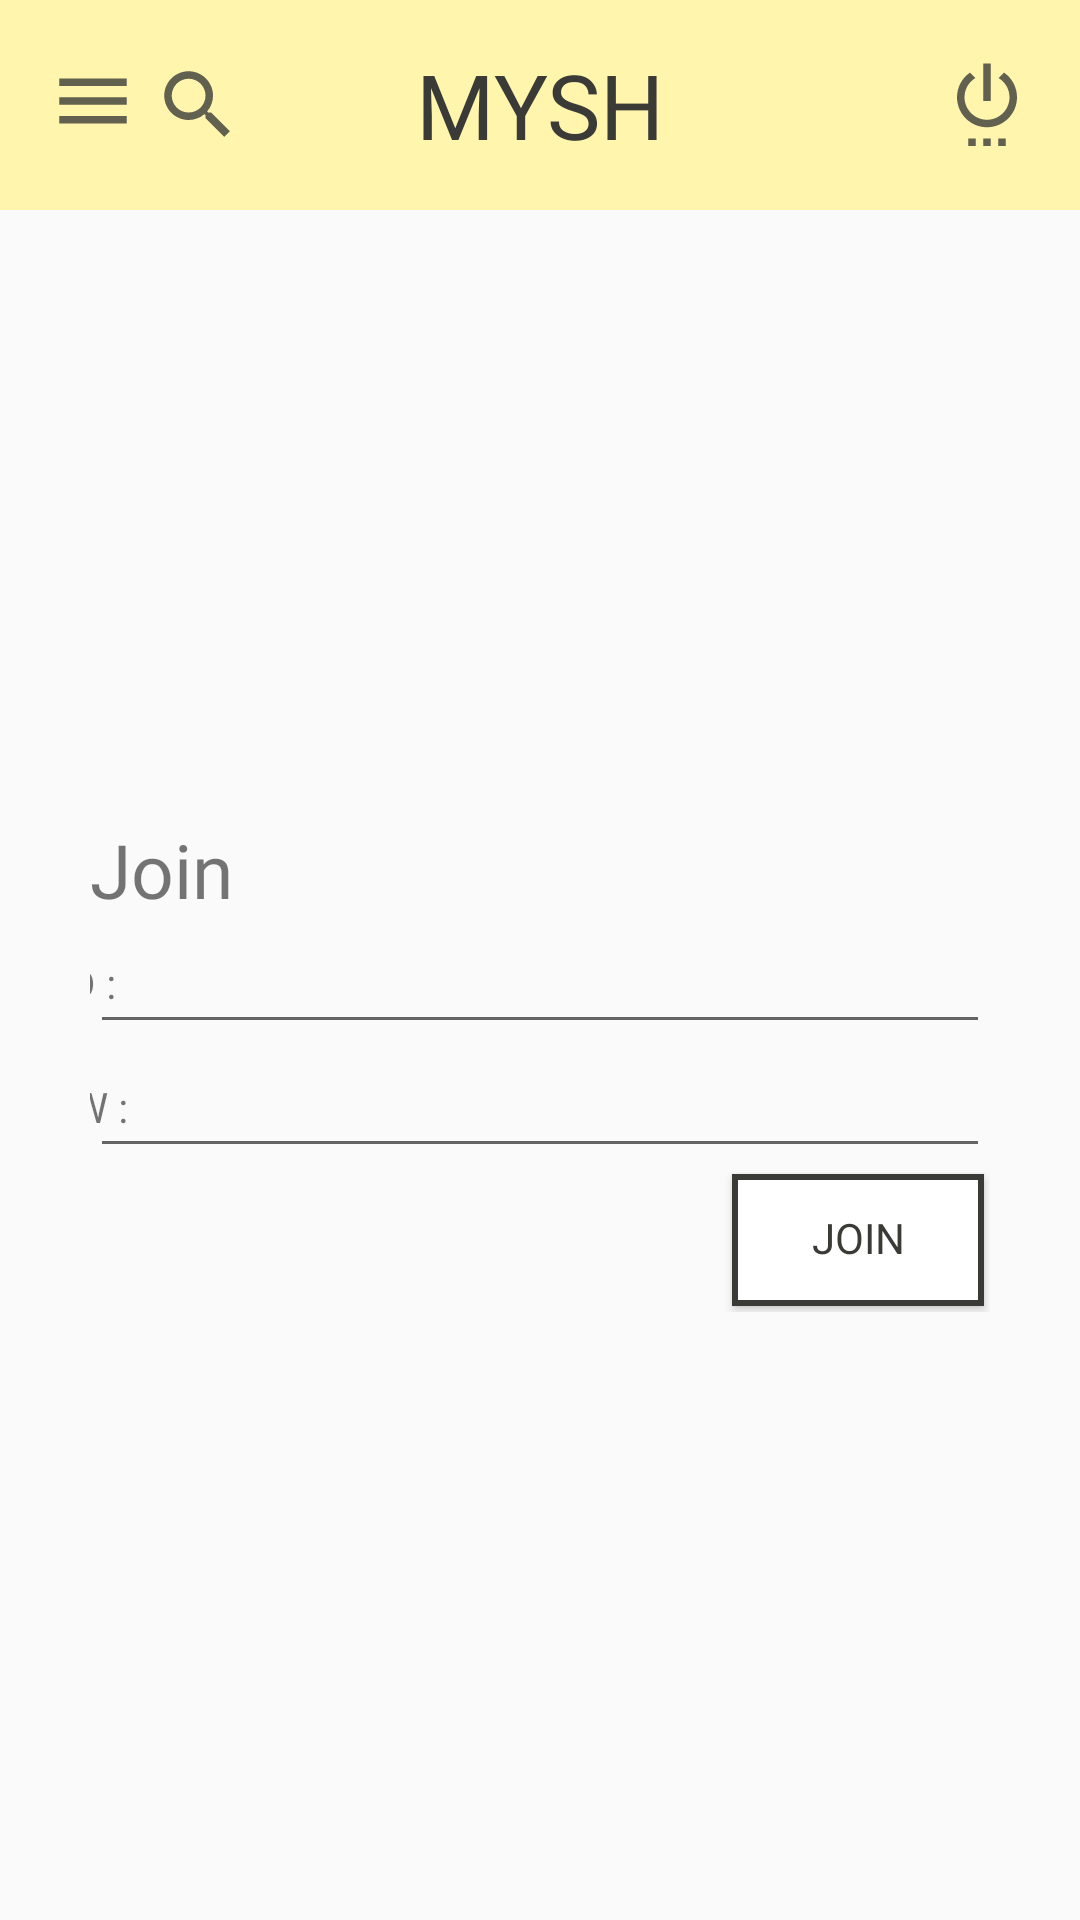

Named icons in this screenshot (1080x1920) and their bounding boxes, box=[x1, y1, x2, y2]:
menu: box=[59, 78, 127, 124]
search: box=[164, 71, 230, 137]
